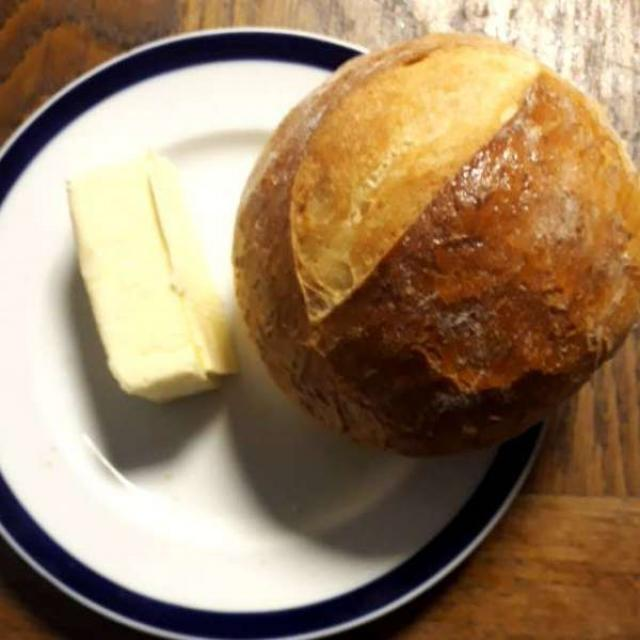bread: (242, 43, 626, 447)
butter: (76, 160, 233, 394)
